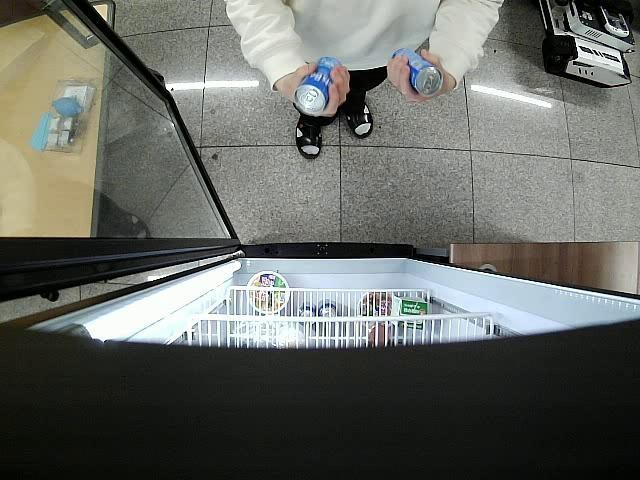15_letsbe: (293, 56, 342, 116), (392, 46, 445, 98)
